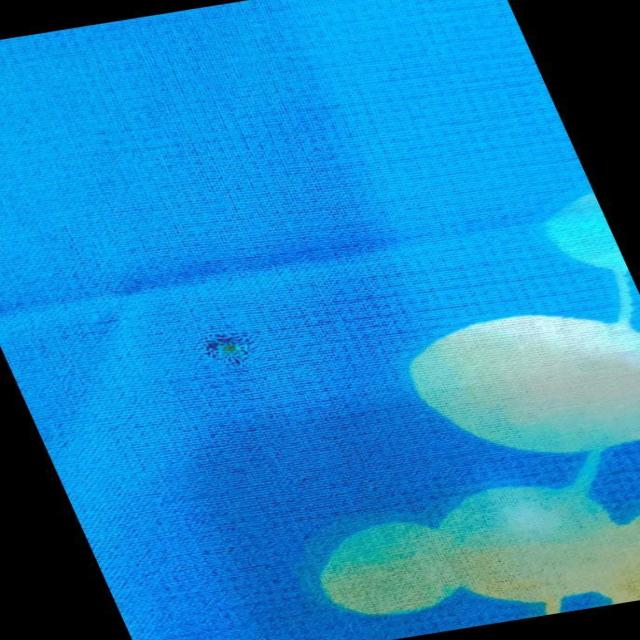cut: (174, 304, 276, 380)
